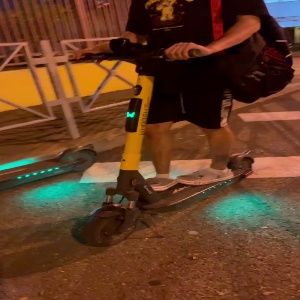human on a scooter: (70, 1, 297, 249)
